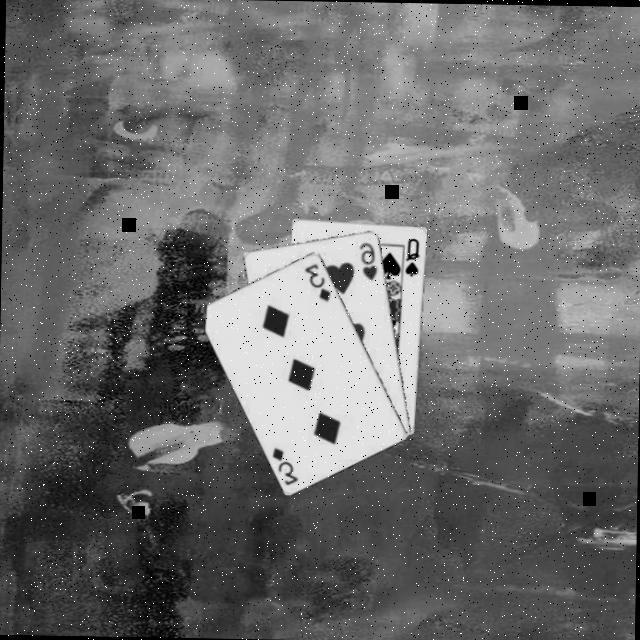3D: (302, 260, 336, 305), (270, 444, 303, 489)
6H: (358, 240, 383, 284)
QS: (404, 235, 425, 279)
